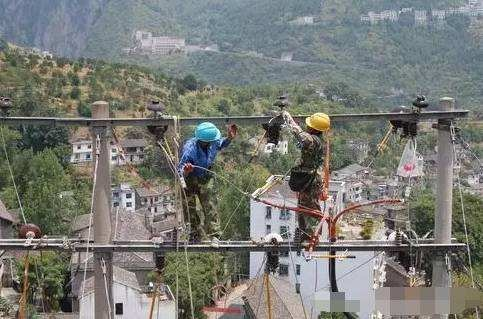blue: (193, 119, 218, 151)
yellow: (304, 111, 330, 138)
